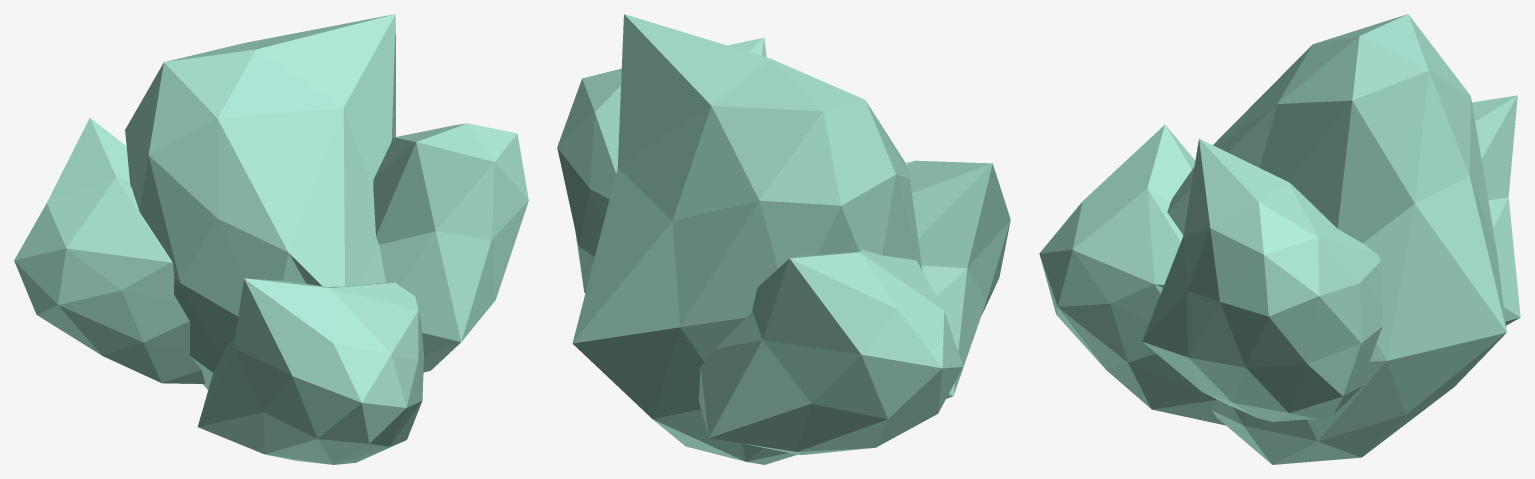
The model's file is Crystal.fbx.
3 views of the same model, side by side, from view 1: azimuth 30°, elevation 25°; view 2: azimuth 150°, elevation 25°; view 3: azimuth 270°, elevation 25° (orthographic). The views are drawn at different scales.
Parts seen in each view (by area): view 1: CrystalTemp; view 2: CrystalTemp; view 3: CrystalTemp.
Part boxes in pixels (left/top/right/bottom): CrystalTemp: left=14, top=14, right=528, bottom=464; CrystalTemp: left=557, top=14, right=1010, bottom=464; CrystalTemp: left=1039, top=14, right=1520, bottom=464.
Size of the model in its own units: 362 by 318 by 340.
